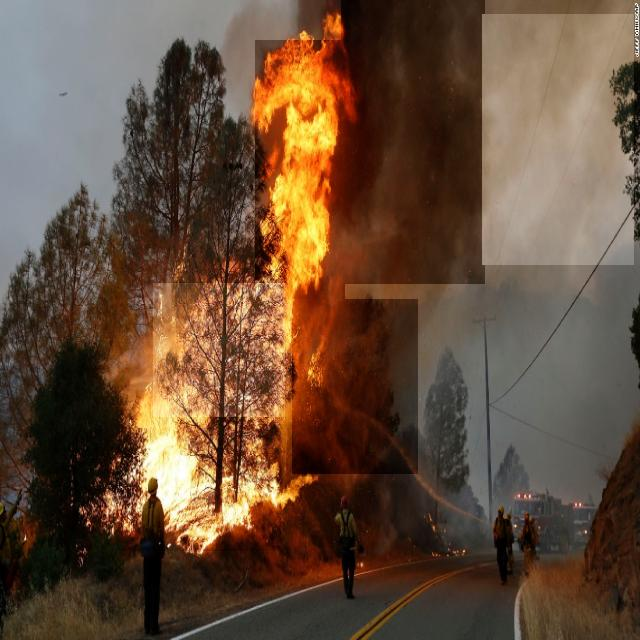Fire: (116, 408, 281, 552), (256, 40, 346, 300), (153, 283, 285, 417)
Smoke: (341, 1, 485, 284), (482, 14, 634, 265), (292, 299, 418, 474)
